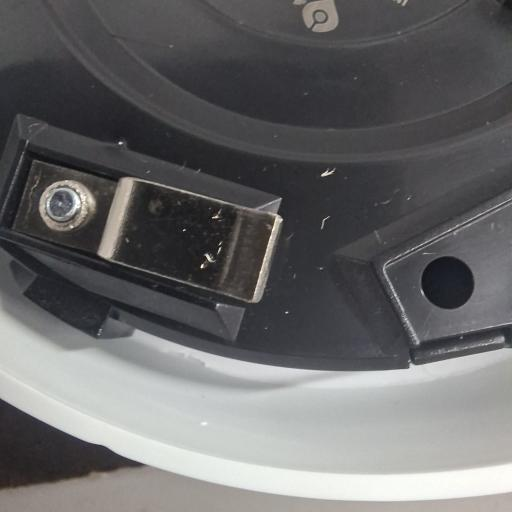yaysiz: (4, 154, 281, 305)
